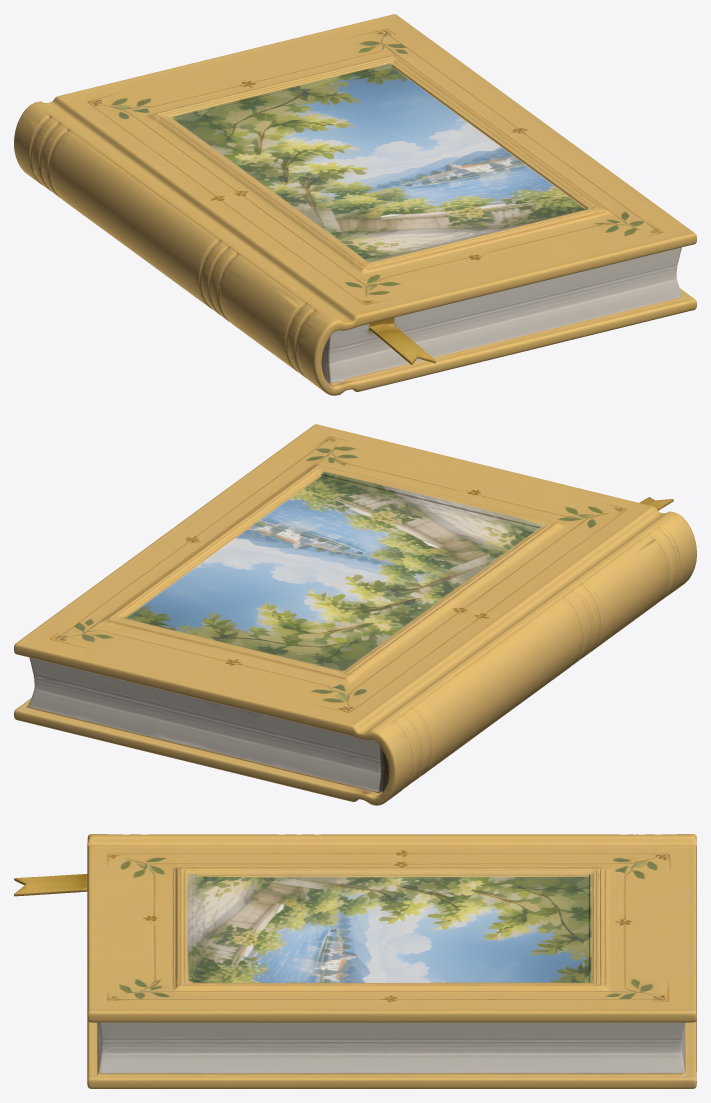
File: yellowbook.glb
3 renders of one model, top to bottom at view 1: azimuth 30°, elevation 25°; view 2: azimuth 150°, elevation 25°; view 3: azimuth 270°, elevation 25°, orthographic.
Visible parts, largest first — view 1: node_0; view 2: node_0; view 3: node_0.
Part boxes in pixels (<box>): node_0: <box>14,14,696,395</box>; node_0: <box>14,424,696,805</box>; node_0: <box>14,834,696,1088</box>.
Bounding box in the file's own units: 0.6537 × 0.1342 × 0.9997.
1 material, 1 textured.
